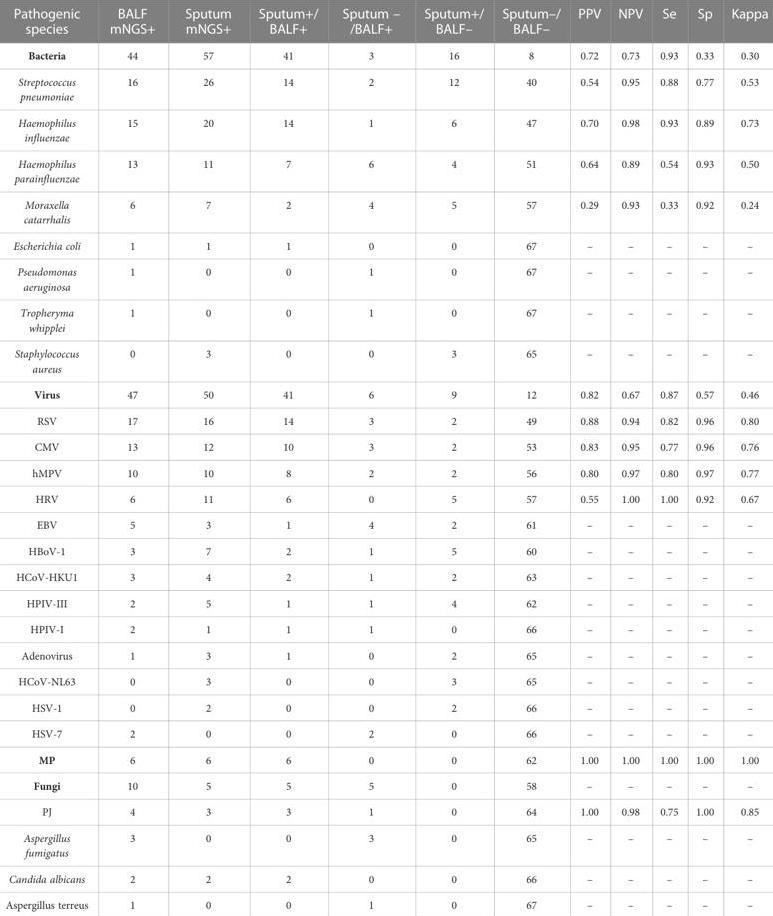table: (5, 5, 767, 911)
table column: (5, 5, 98, 911), (244, 5, 329, 911), (329, 5, 411, 911), (411, 5, 492, 911), (492, 5, 568, 911), (169, 5, 244, 911), (98, 5, 169, 911), (722, 5, 767, 911), (609, 5, 651, 911), (568, 5, 609, 911), (686, 5, 722, 911), (651, 5, 686, 911)
table column header: (5, 5, 767, 43)
table row: (5, 68, 767, 109), (5, 109, 767, 150), (5, 150, 767, 191), (5, 191, 767, 232), (5, 258, 767, 299), (5, 299, 767, 340), (5, 340, 767, 381), (5, 824, 767, 865), (5, 5, 767, 43), (5, 459, 767, 486), (5, 232, 767, 258), (5, 381, 767, 407), (5, 407, 767, 433), (5, 433, 767, 459), (5, 486, 767, 512), (5, 512, 767, 538), (5, 538, 767, 564), (5, 564, 767, 590), (5, 590, 767, 616), (5, 616, 767, 642), (5, 642, 767, 668), (5, 668, 767, 694), (5, 694, 767, 720), (5, 720, 767, 746), (5, 746, 767, 772), (5, 772, 767, 798), (5, 798, 767, 824), (5, 865, 767, 891), (5, 43, 767, 68), (5, 891, 767, 911)
